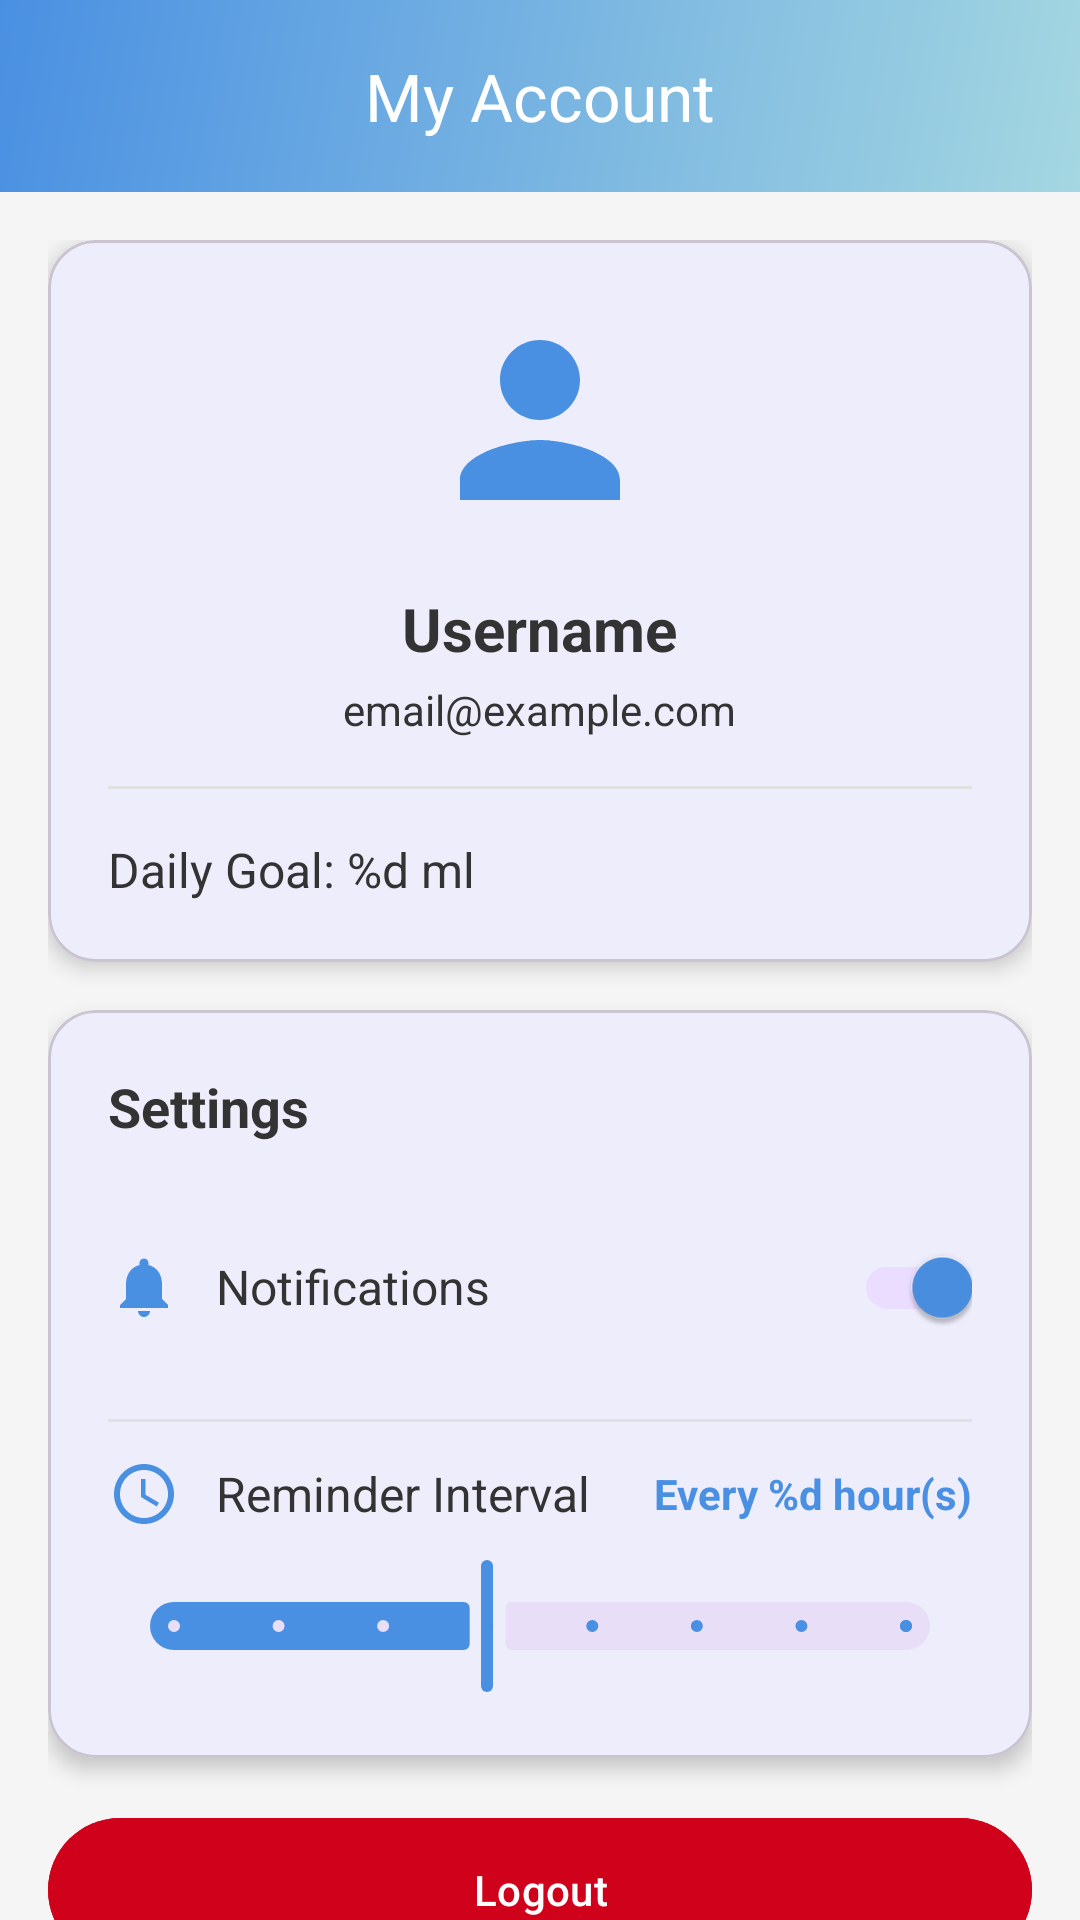

Named icons in this screenshot (1080px×1920px) and their centers, [x,y]:
My Account: [540,420]
